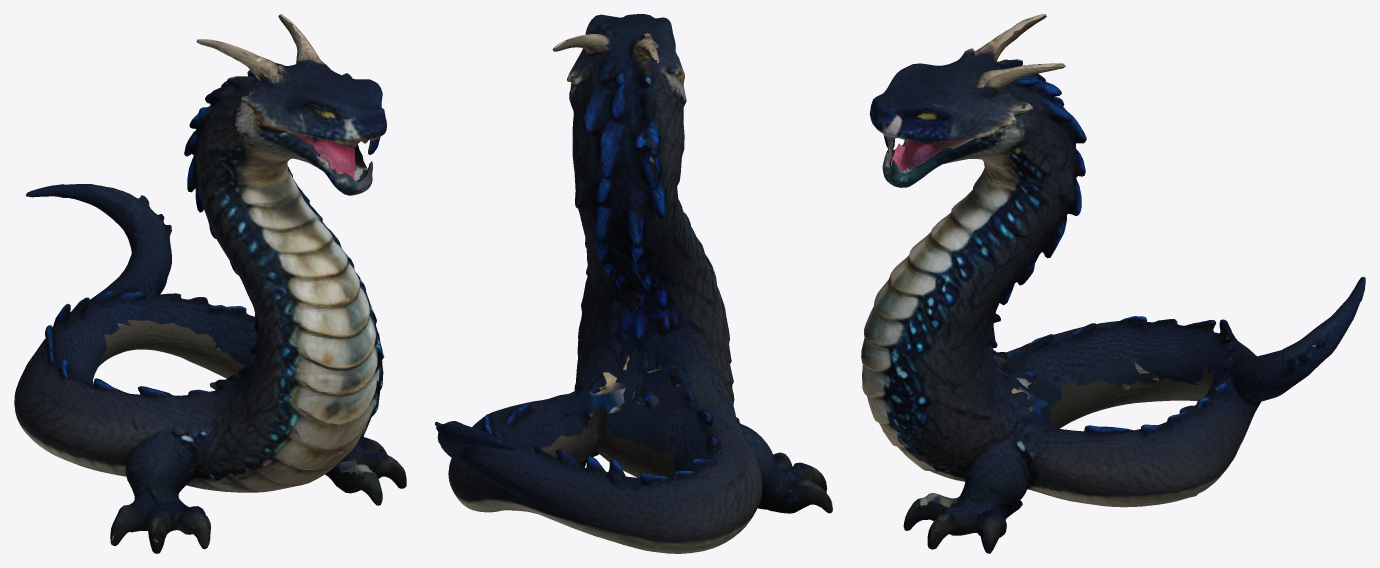
Rendered from glubinnik-z.glb.
3 views of the same model, side by side, from view 1: azimuth 30°, elevation 25°; view 2: azimuth 150°, elevation 25°; view 3: azimuth 270°, elevation 25° (orthographic). The views are drawn at different scales.
Parts seen in each view (by area): view 1: tmp17vzvhmo.ply; view 2: tmp17vzvhmo.ply; view 3: tmp17vzvhmo.ply.
Boxes of the visible parts, x1,y1,x2,y2 form: tmp17vzvhmo.ply: (14, 14, 406, 553); tmp17vzvhmo.ply: (435, 14, 832, 553); tmp17vzvhmo.ply: (861, 14, 1365, 553).
Size of the model in its own units: 1.34 by 1.96 by 1.95.
1 material, 1 textured.
